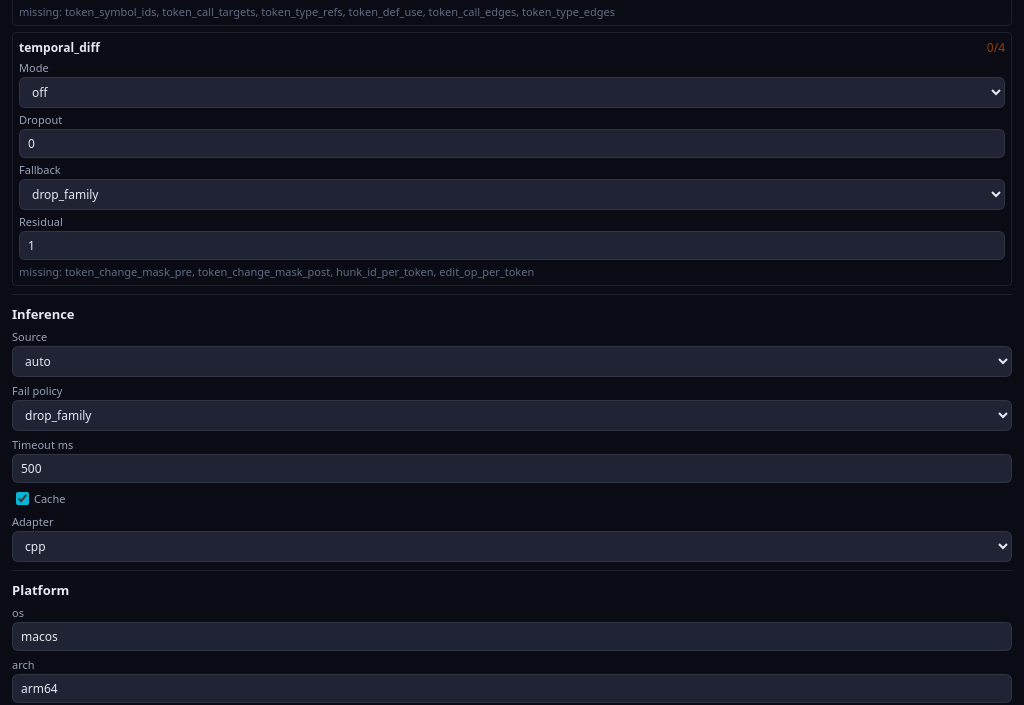
Test: SideChannelsTab › renders inference and platform preview controls
(page scrolled)
Select "parse_if_possible" in the dropdown with test id "side-channel-inference-source" at (512, 362), box [12,346,1012,377]
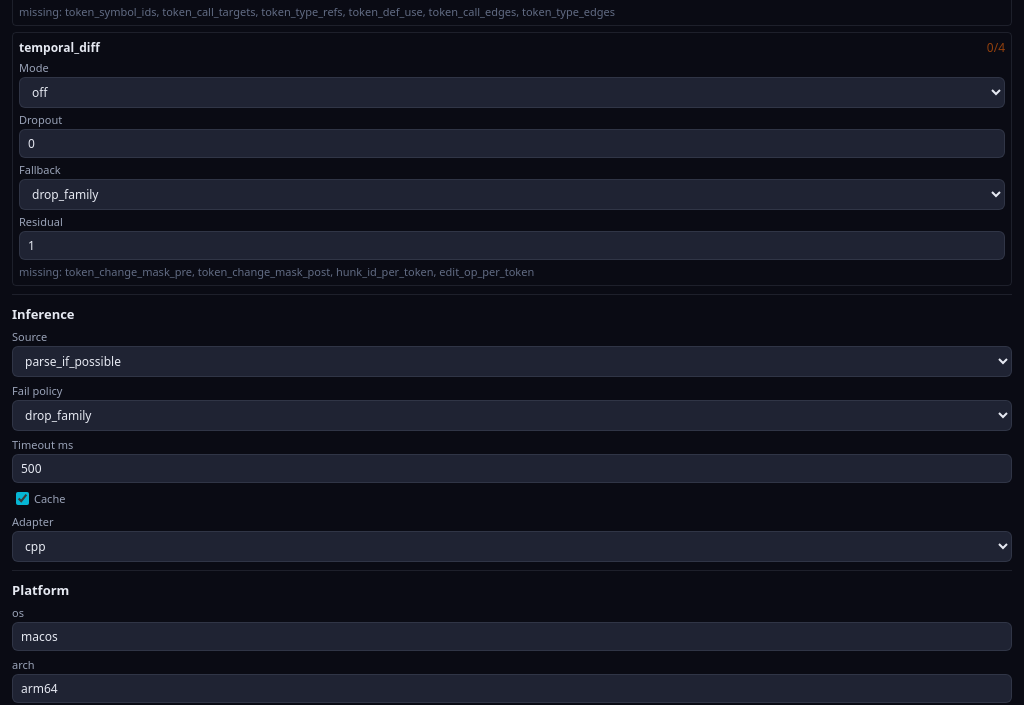
Replace the text in the field with test id "side-channel-platform-os" with "linux" at (512, 636), box [12,622,1012,651]
(page scrolled)
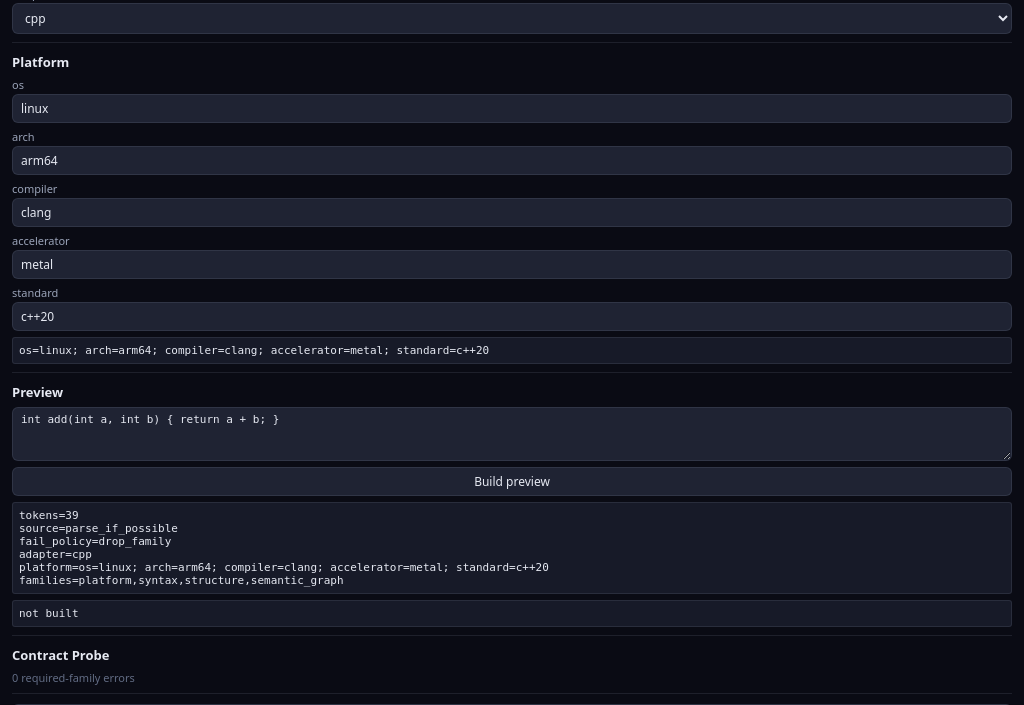
Expected: the text with test id "side-channel-preview" shows "source=parse_if_possible", [19,509,549,587]
Expected: the text with test id "side-channel-platform-preview" shows "os=linux", [19,344,489,357]
